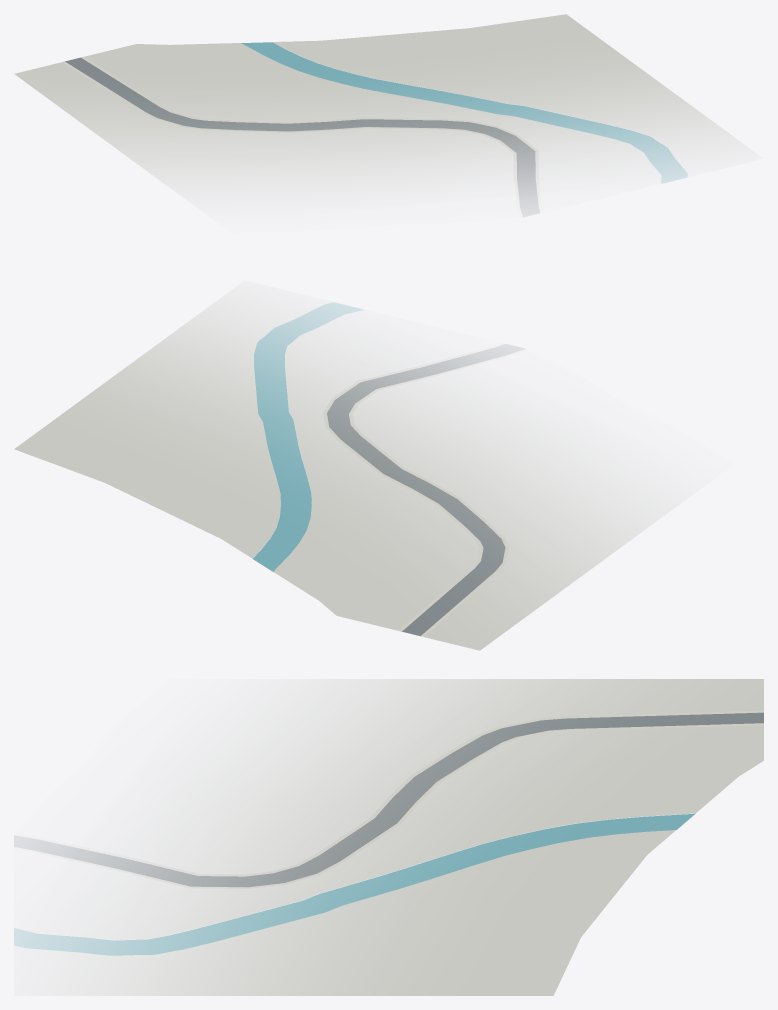
3 views of the same model, one above another, from view 1: azimuth 30°, elevation 25°; view 2: azimuth 150°, elevation 25°; view 3: azimuth 270°, elevation 25° (orthographic). The views are drawn at different scales.
Parts seen in each view (by area): view 1: city; view 2: city; view 3: city.
Part boxes in pixels (box(x1,y1,x2,y2)): city: box(14, 14, 759, 216); city: box(14, 282, 691, 650); city: box(14, 679, 763, 995).
Bounding box in the file's own units: 500 × 0.4 × 500.
